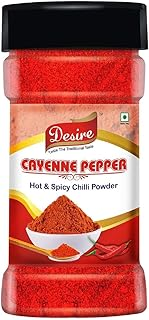Chilli Powder: (2, 4, 149, 317)
